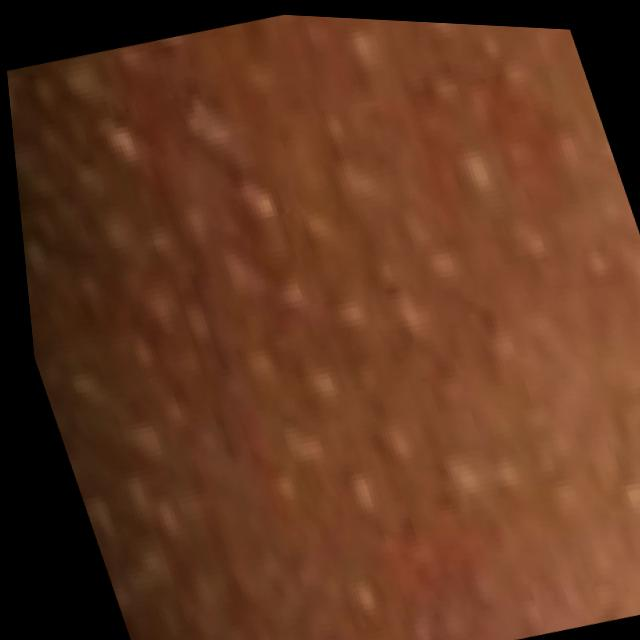whitehead: (5, 11, 640, 640)
